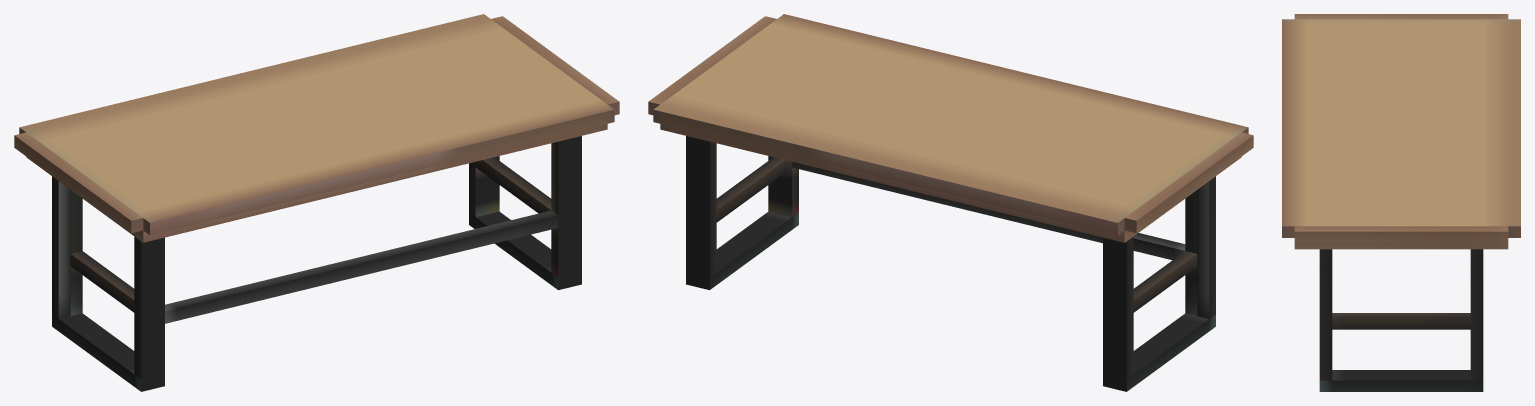
The model's file is OfficeDeskWider_00.obj.
3 renders of one model, left to right at view 1: azimuth 30°, elevation 25°; view 2: azimuth 150°, elevation 25°; view 3: azimuth 270°, elevation 25°, orthographic. The views are drawn at different scales.
Visible parts, largest first — view 1: OfficeDeskWider_00; view 2: OfficeDeskWider_00; view 3: OfficeDeskWider_00.
Boxes of the visible parts, x1,y1,x2,y2 form: OfficeDeskWider_00: (14, 14, 619, 391); OfficeDeskWider_00: (648, 14, 1253, 391); OfficeDeskWider_00: (1282, 14, 1520, 391).
Size of the model in its own units: 2.05 by 0.75 by 0.95.
